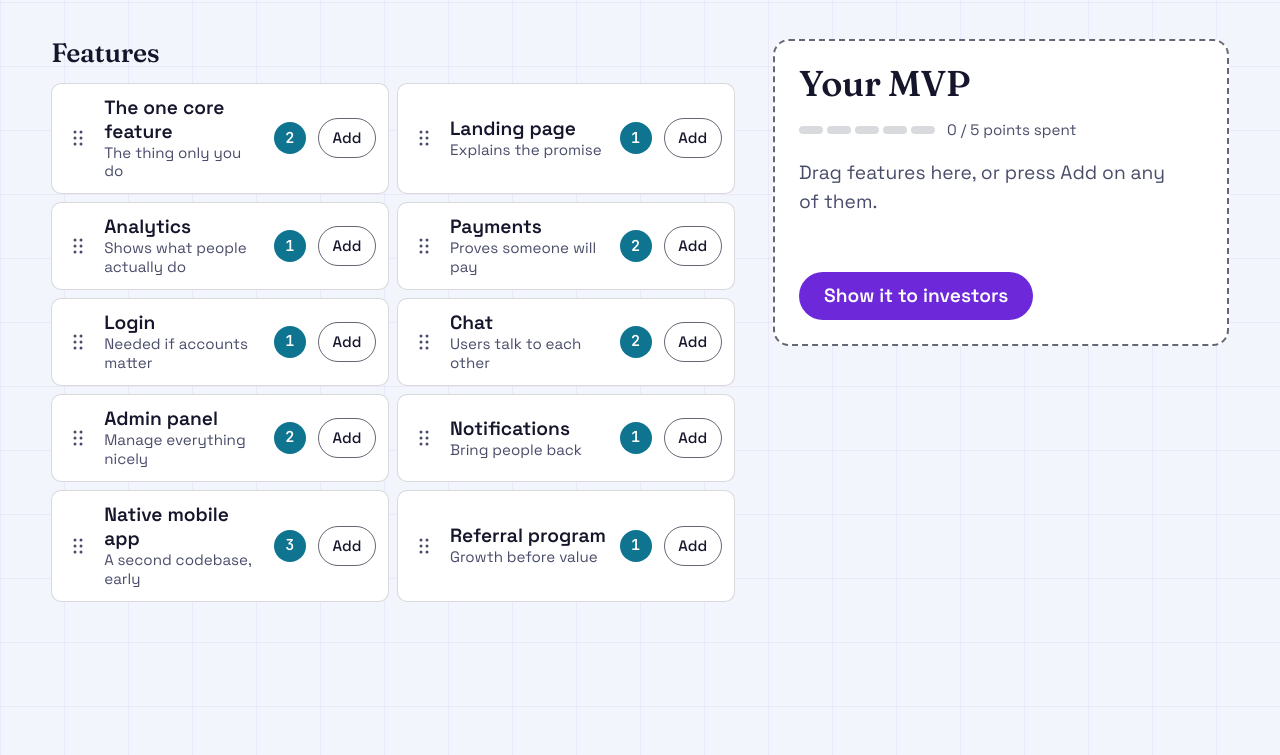
MvpBuilder › refuses to go over budget and says why
This screenshot has width=1280, height=755.
(page scrolled)
Click the button "Add" below "Native mobile app" at (347, 546), box x1=318 y1=526 x2=376 y2=566
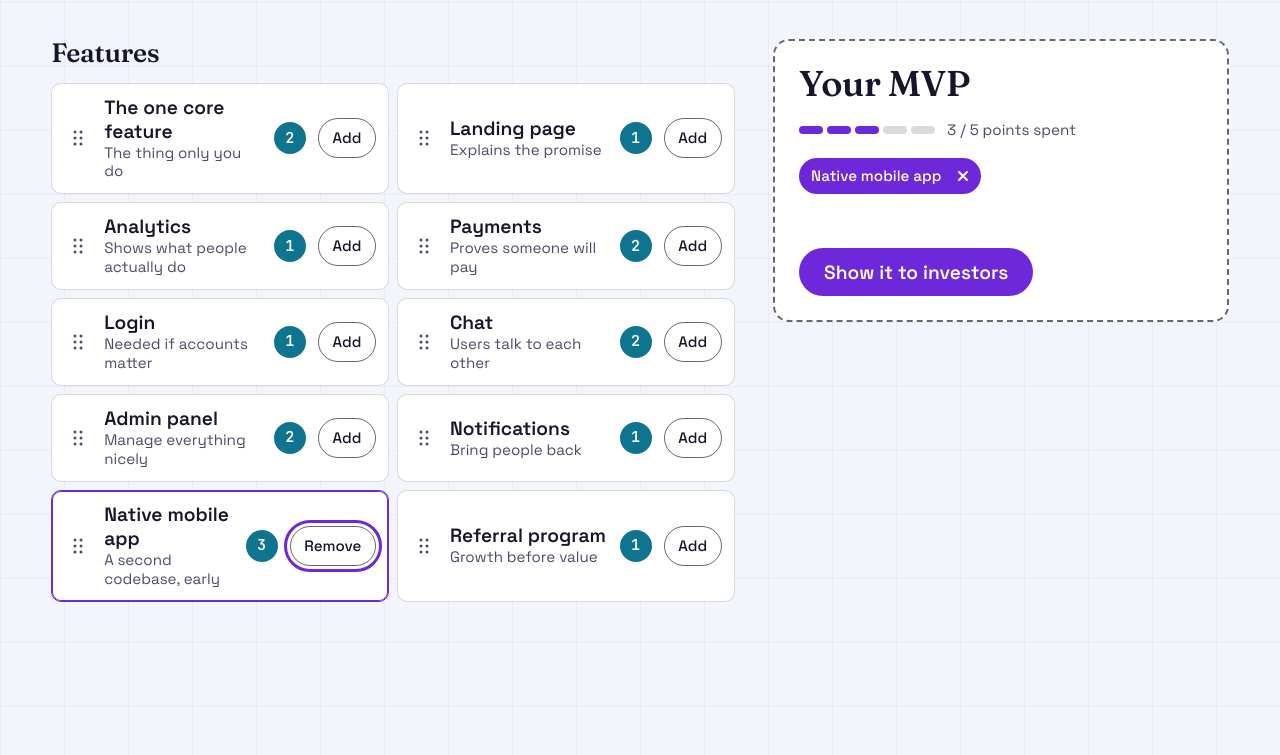
Click the button "Add" in the row of "Payments" at (693, 246), box x1=664 y1=226 x2=722 y2=266
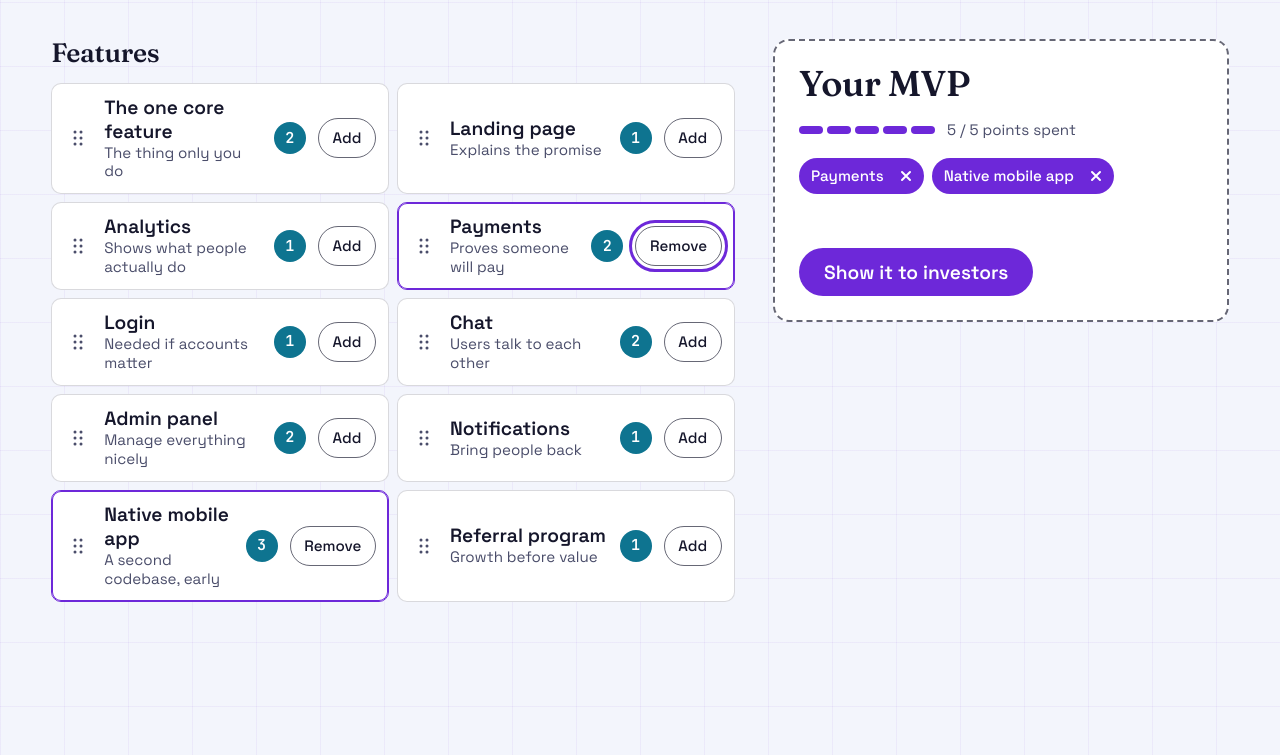
Click the button "Add" in the row of "Chat" at (693, 342), box x1=664 y1=322 x2=722 y2=362
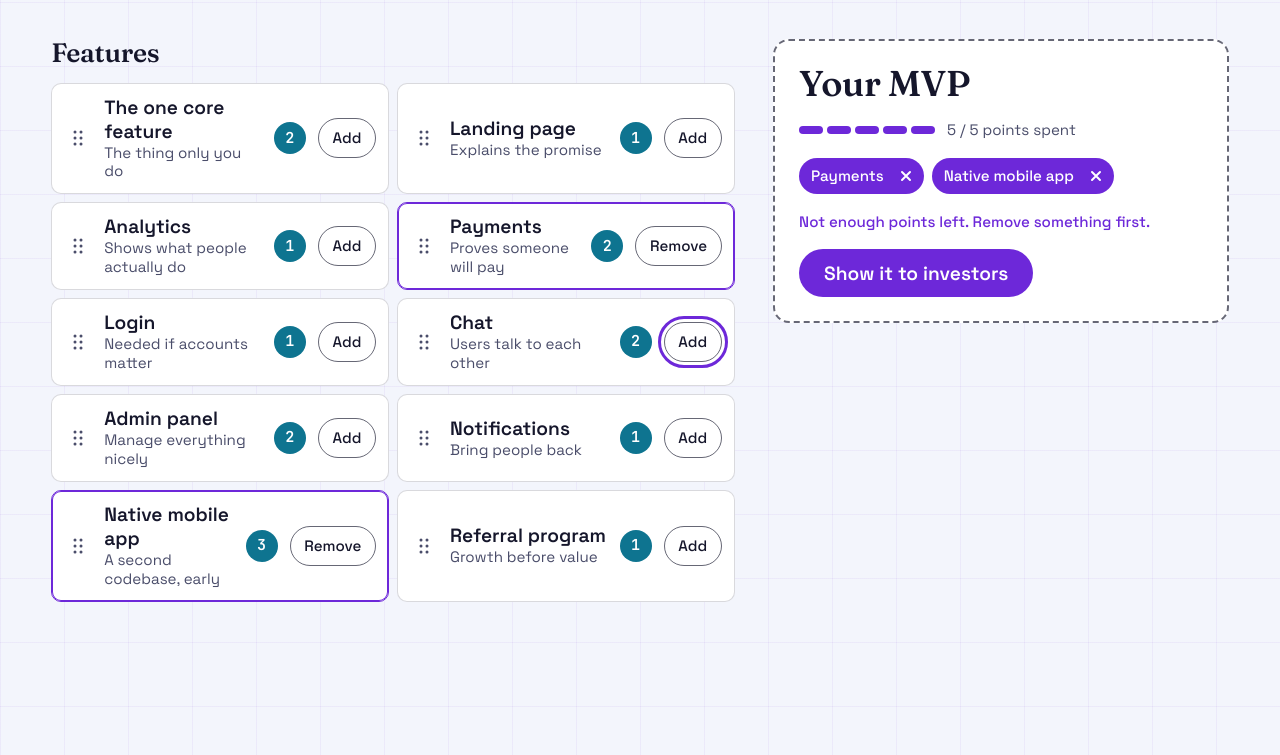
Result: the text "Not enough points left. Remove something first." is shown at x1=799 y1=210 x2=1150 y2=233
